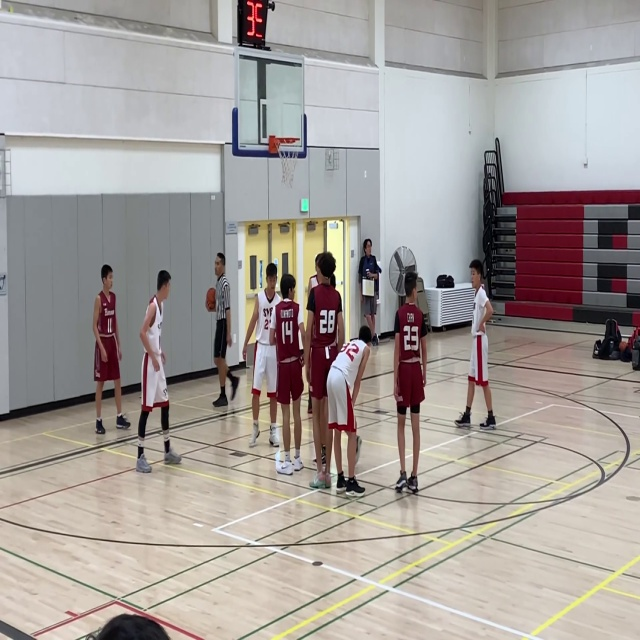Basketball: (205, 288, 216, 311)
